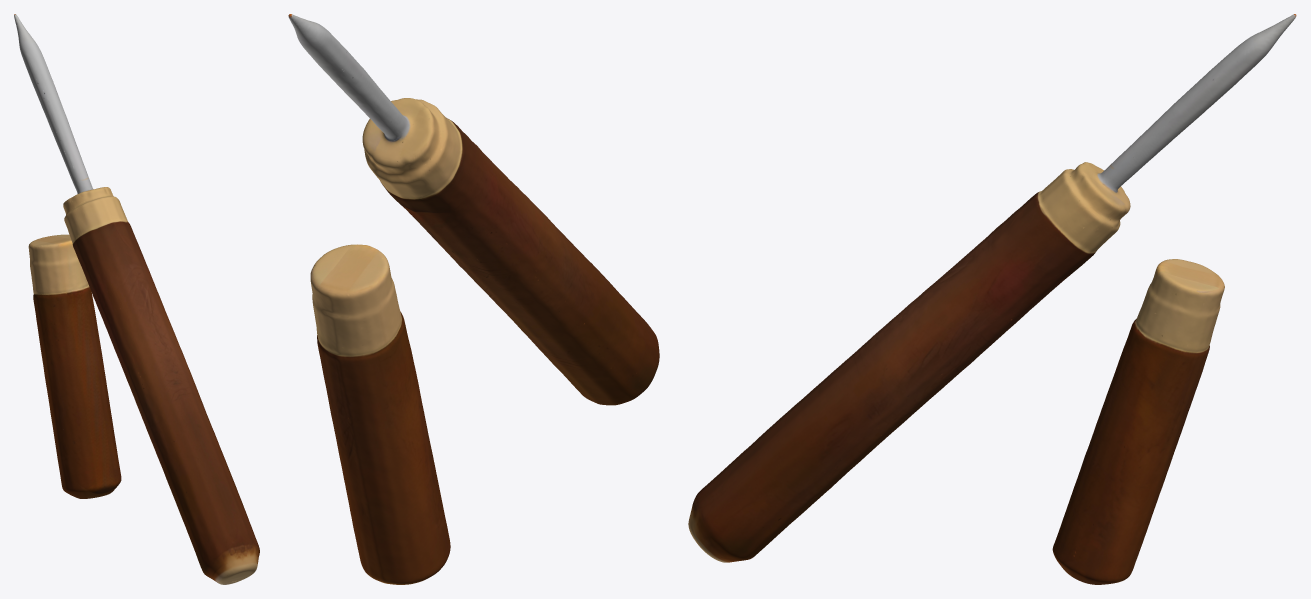
Rendered from tripo_convert_3cea25bd-395f-40cb-aa8c-6bfbc5bd5ffa.fbx.
3 renders of one model, left to right at view 1: azimuth 30°, elevation 25°; view 2: azimuth 150°, elevation 25°; view 3: azimuth 270°, elevation 25°, orthographic. The views are drawn at different scales.
Parts seen in each view (by area): view 1: tripo_node_3cea25bd; view 2: tripo_node_3cea25bd; view 3: tripo_node_3cea25bd.
Boxes of the visible parts, x1=… form: tripo_node_3cea25bd: x1=14, y1=14, x2=259, y2=584; tripo_node_3cea25bd: x1=288, y1=14, x2=659, y2=584; tripo_node_3cea25bd: x1=688, y1=14, x2=1296, y2=584.
Size of the model in its own units: 12.28 by 94.7 by 92.22.
1 material, 1 textured.
